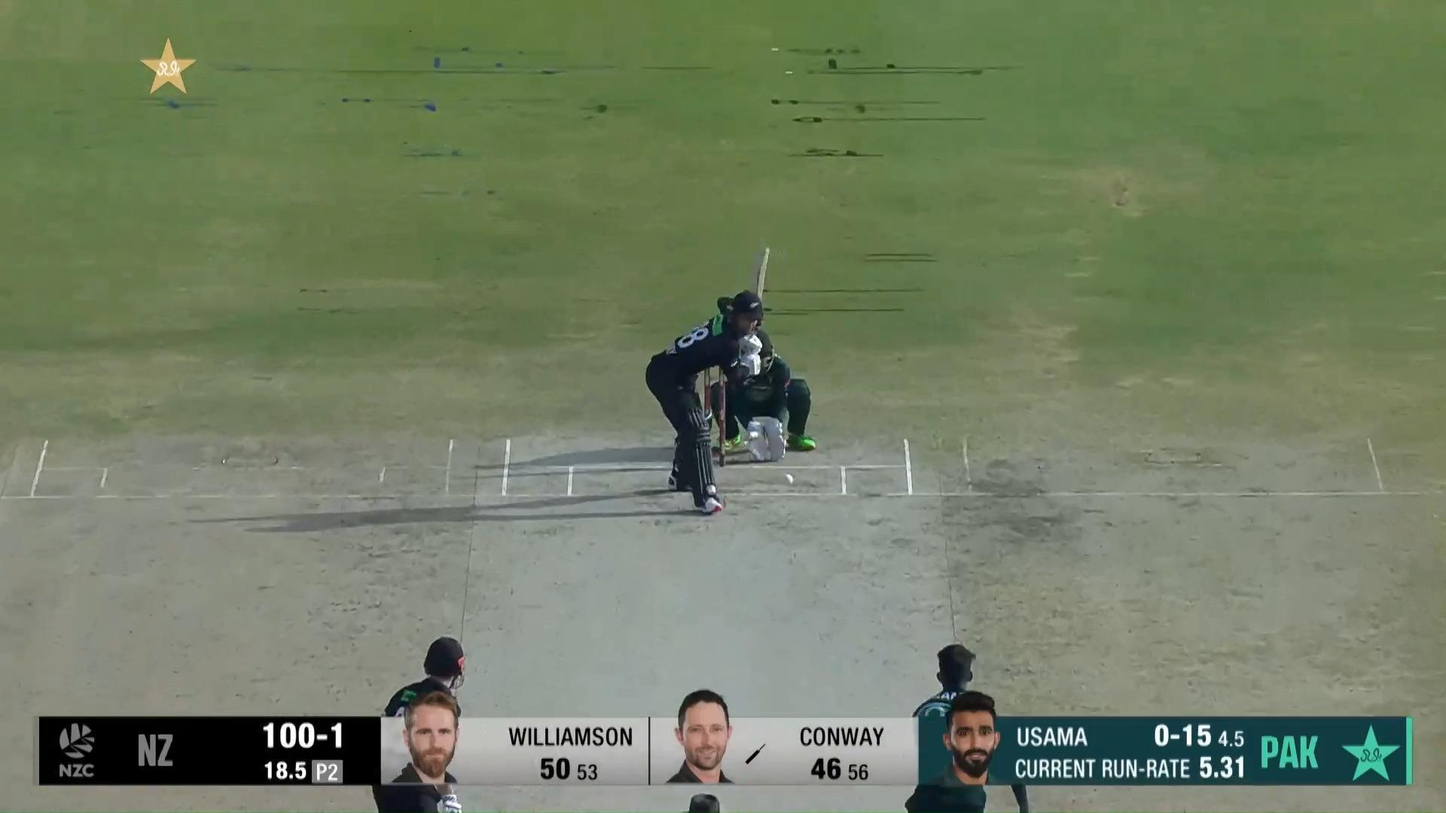BM 1: (645, 243, 771, 514)
BO: (901, 641, 1032, 813)
